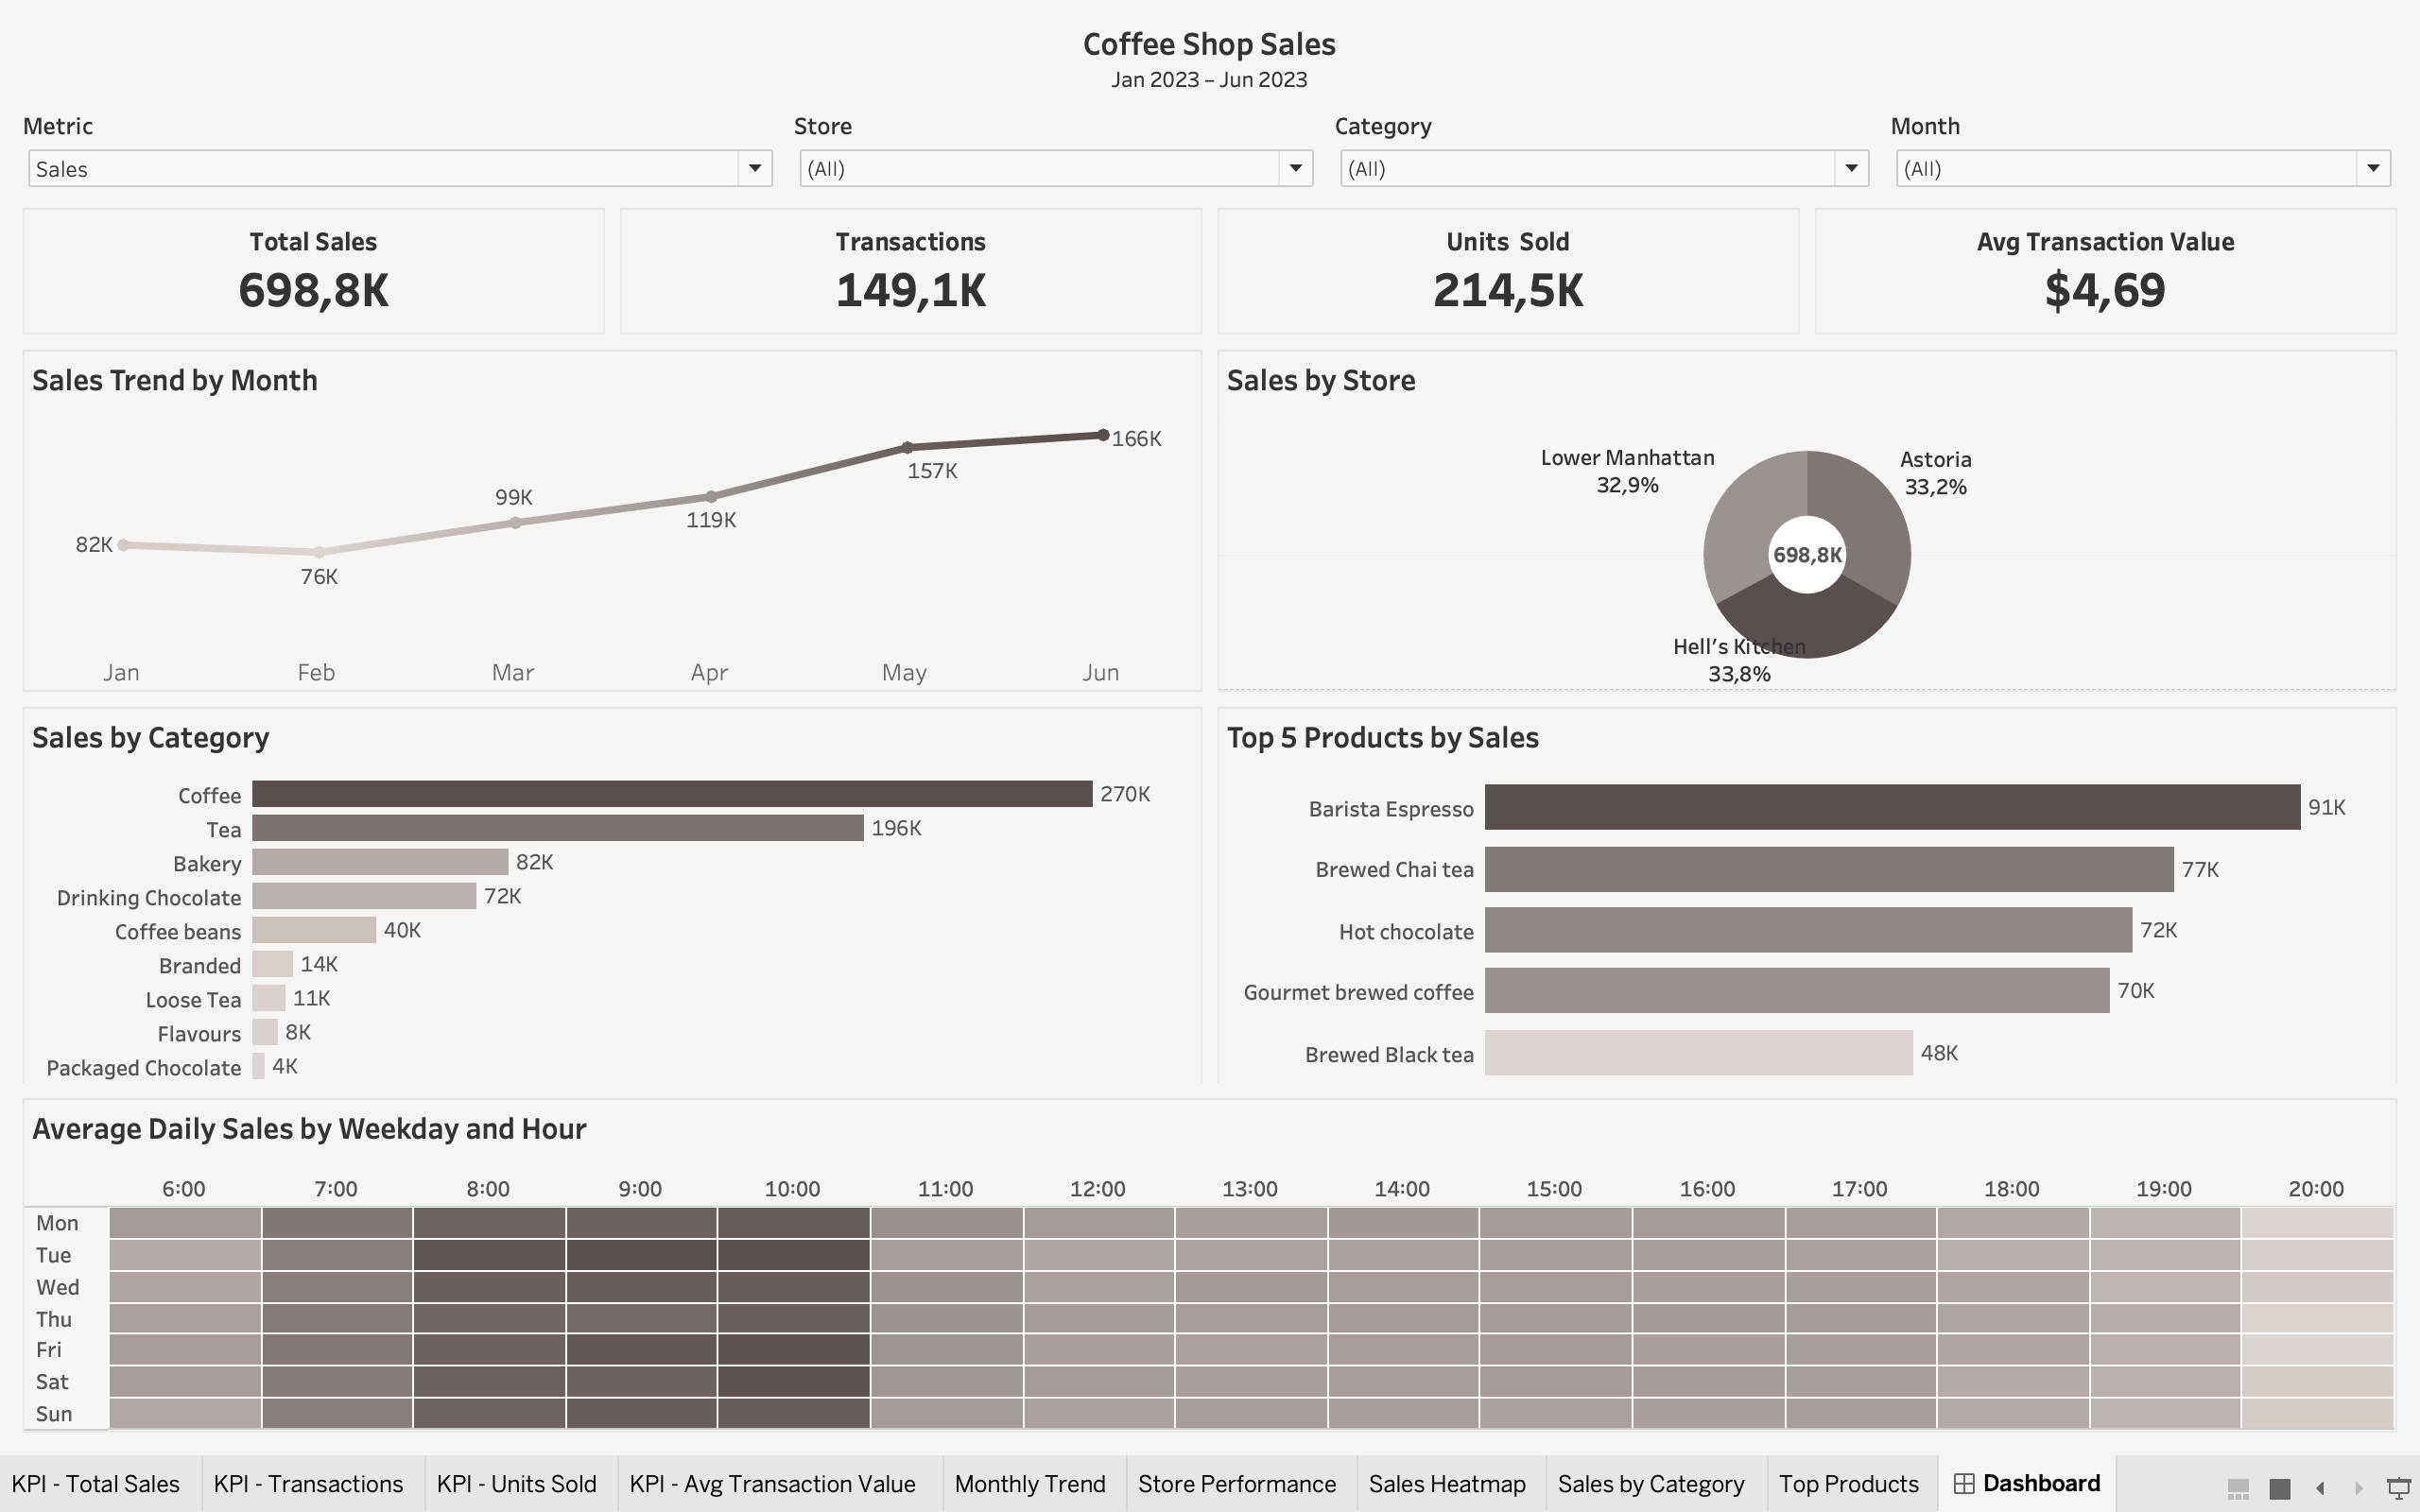

The dashboard page shown, as its layout file describes it:
{"tool":"tableau","page":{"name":"Dashboard","canvas":[1000,1000],"units":"permille","ordinal":0},"visuals":[{"type":"text","box":[6.2,10.4,987.5,59.7]},{"type":"parameter","param":"[Parameters].[Parameter 0070616764456970]","box":[6.2,70.1,318.7,67.5]},{"type":"filter","title":"Store Performance","param":"[federated.1w8rssj0kdehik1bo4f5w0ththsl].[none:store_location:nk]","box":[325,70.1,223.4,67.5]},{"type":"filter","title":"Monthly Trend","param":"[federated.1w8rssj0kdehik1bo4f5w0ththsl].[none:product_category:nk]","box":[548.4,70.1,229.7,67.5]},{"type":"filter","title":"Monthly Trend","param":"[federated.1w8rssj0kdehik1bo4f5w0ththsl].[none:Calculation_0119751360995328:ok]","box":[778.1,70.1,215.6,67.5]},{"type":"worksheet","title":"KPI - Total Sales","mark":"Automatic","box":[6.2,137.7,246.9,97.7]},{"type":"worksheet","title":"KPI - Transactions","mark":"Automatic","box":[253.1,137.7,246.9,97.7]},{"type":"worksheet","title":"KPI - Units Sold","mark":"Automatic","box":[500,137.7,246.9,97.7]},{"type":"worksheet","title":"KPI - Avg Transaction Value","mark":"Automatic","box":[746.9,137.7,246.9,97.7]},{"type":"worksheet","title":"Monthly Trend","mark":"Line","rows":["Calculation_0070616765861899"],"cols":["transaction_date"],"box":[6.2,235.3,493.6,244.9]},{"type":"worksheet","title":"Store Performance","mark":"Pie","rows":["Calculation_0181324143841281","Calculation_0181324143886339"],"box":[499.8,235.3,493.9,244.9]},{"type":"worksheet","title":"Sales by Category","mark":"Bar","rows":["product_category"],"cols":["Calculation_0070616761253888"],"box":[6.2,480.2,493.6,269.6]},{"type":"worksheet","title":"Top Products","mark":"Automatic","rows":["product_type"],"cols":["Calculation_0070616761253888"],"box":[499.8,480.2,493.9,269.6]},{"type":"worksheet","title":"Sales Heatmap","mark":"Square","rows":["Calculation_0070616762966022"],"cols":["Calculation_0070616762617861"],"box":[6.2,749.9,987.5,239.7]}]}

Visuals, with their boxes on the dashboard's canvas, which has no fixed pixel size, in thousandths of its width and height (x1, y1, x2, y2). These are canvas units, not pixel positions in the 2420x1512 screenshot, which may show the page scaled, cropped or inside an application window:
text: (6, 10, 994, 70)
parameter: (6, 70, 325, 138)
"Store Performance" filter: (325, 70, 548, 138)
"Monthly Trend" filter: (548, 70, 778, 138)
"Monthly Trend" filter: (778, 70, 994, 138)
"KPI - Total Sales" worksheet: (6, 138, 253, 235)
"KPI - Transactions" worksheet: (253, 138, 500, 235)
"KPI - Units Sold" worksheet: (500, 138, 747, 235)
"KPI - Avg Transaction Value" worksheet: (747, 138, 994, 235)
"Monthly Trend" worksheet (Line marks): (6, 235, 500, 480)
"Store Performance" worksheet (Pie marks): (500, 235, 994, 480)
"Sales by Category" worksheet (Bar marks): (6, 480, 500, 750)
"Top Products" worksheet: (500, 480, 994, 750)
"Sales Heatmap" worksheet (Square marks): (6, 750, 994, 990)
